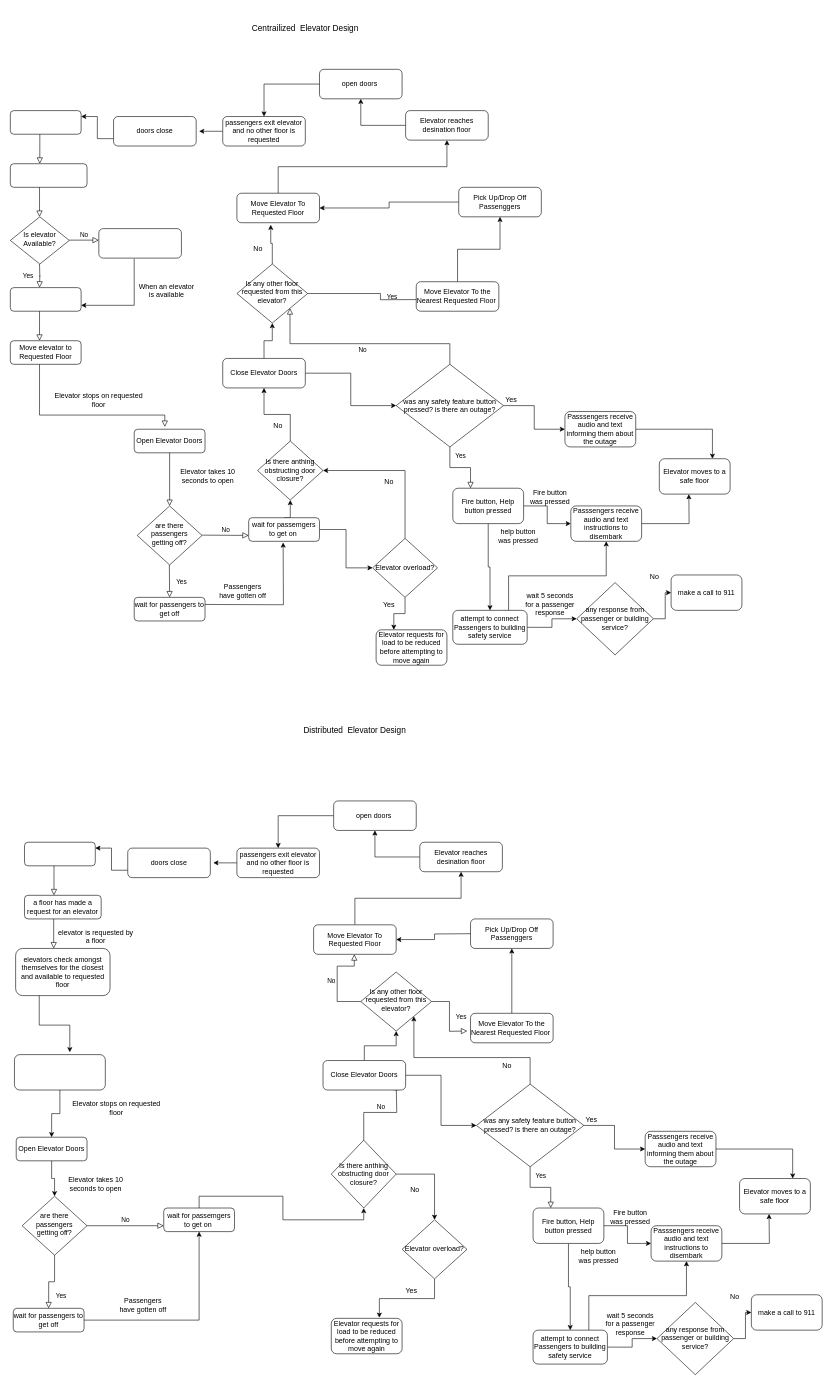
The diagram is 832 pixels wide and 1385 high, and some of its shapes have lost their labels. The centre of each missing label's shape, as x and y in pixels:
"Assign an Elevator to the Requested floor" goes at pixel 45 299.
"Check Floor Request" goes at pixel 48 175.
"elevators are in Idle state" goes at pixel 59 854.
"Idle" goes at pixel 45 122.
"Move the closest available elevator to Requested Floor" goes at pixel 59 1072.
"Wait for one of the three elevaotors to be Available" goes at pixel 139 243.
